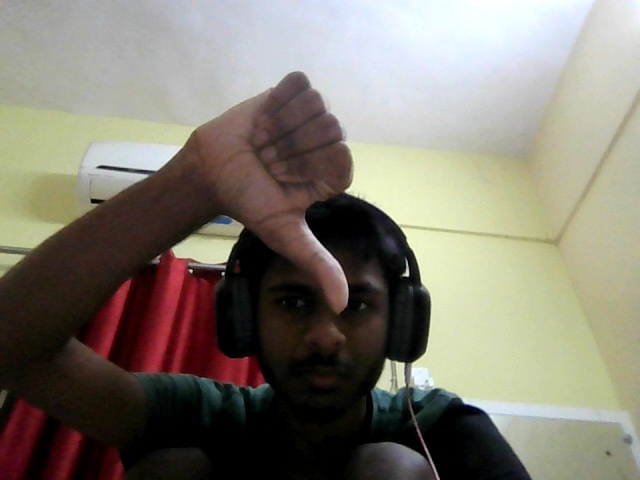ThumbsDown: (185, 73, 355, 313)
